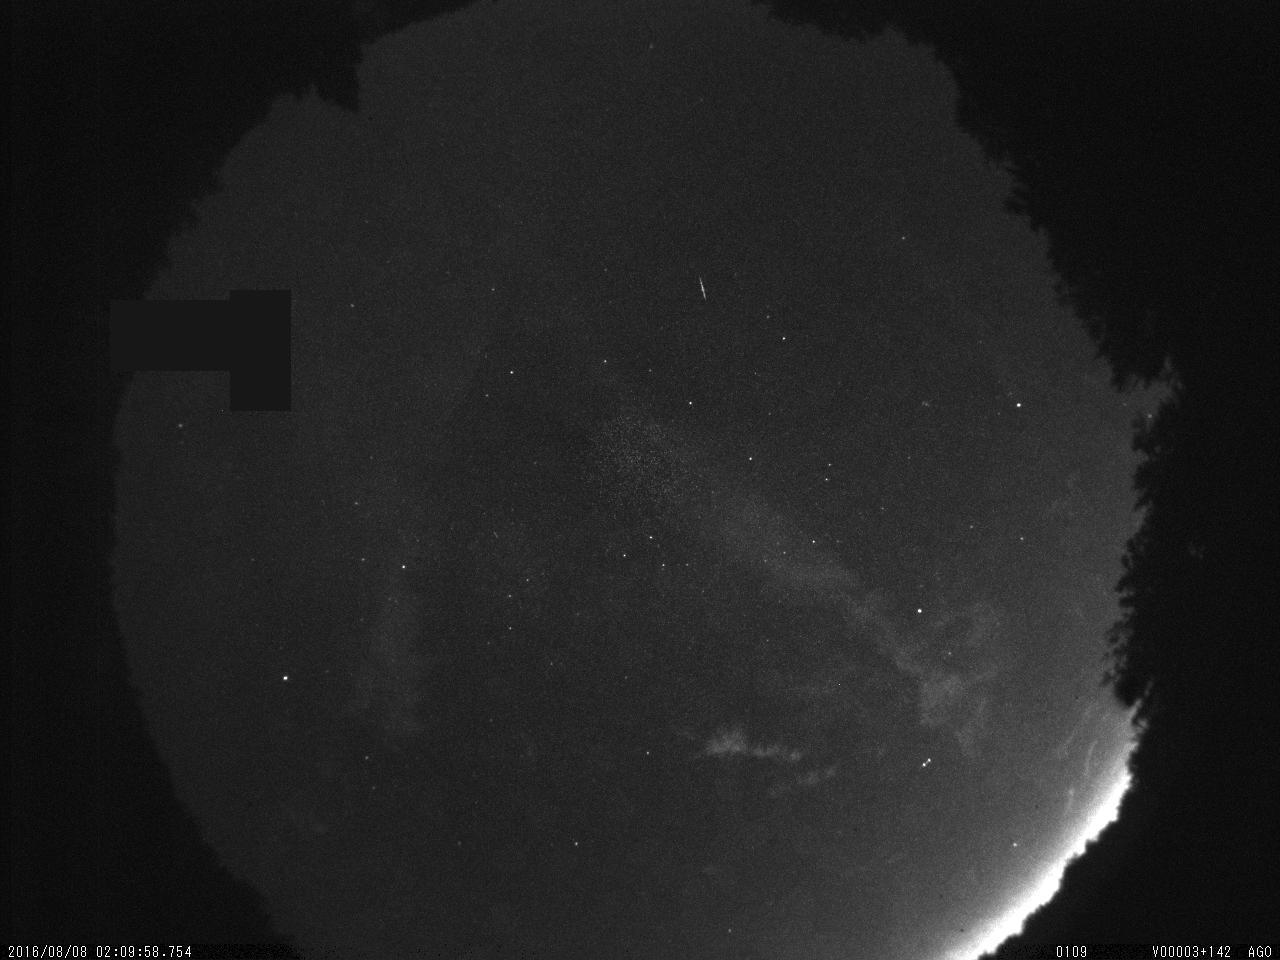meteor: (685, 266, 732, 318)
